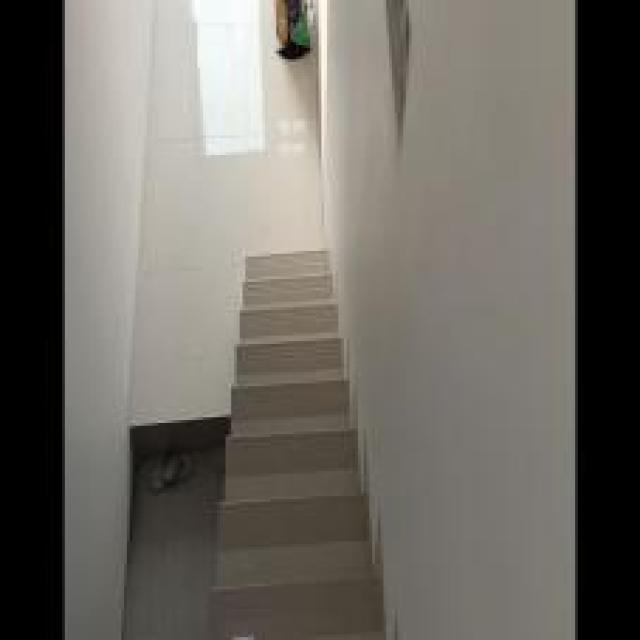downstair: (221, 241, 387, 638)
